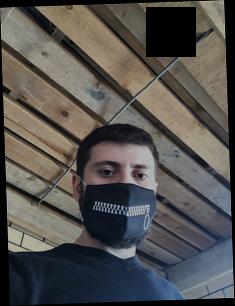with_mask: (82, 152, 156, 250)
